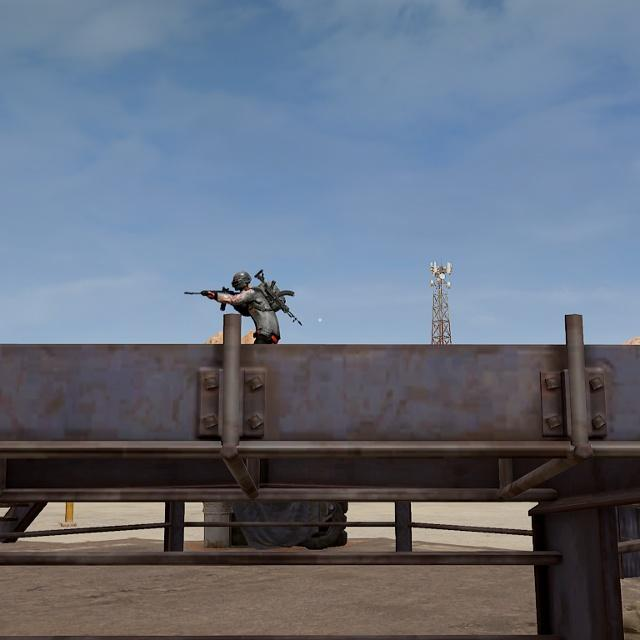head: (229, 270, 255, 296)
people: (228, 268, 285, 346)
